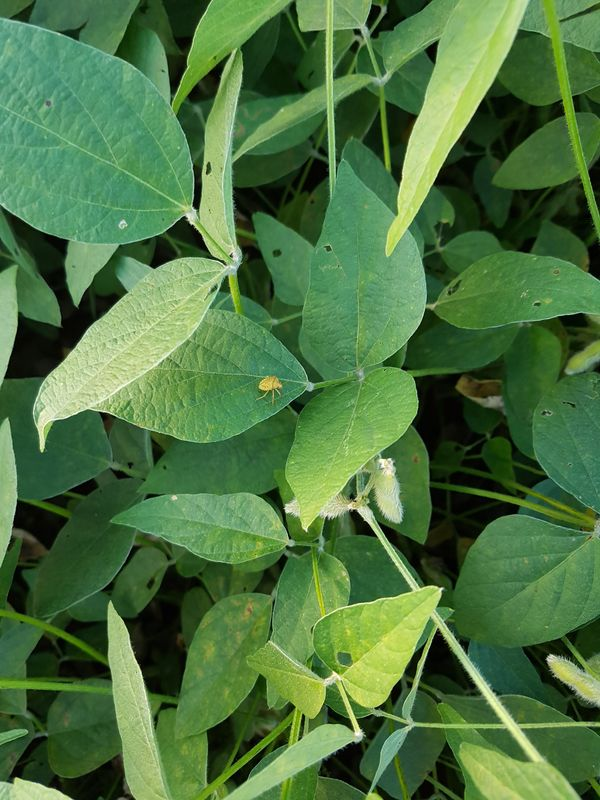Euschistus_heros_ninfa: (251, 370, 291, 409)
